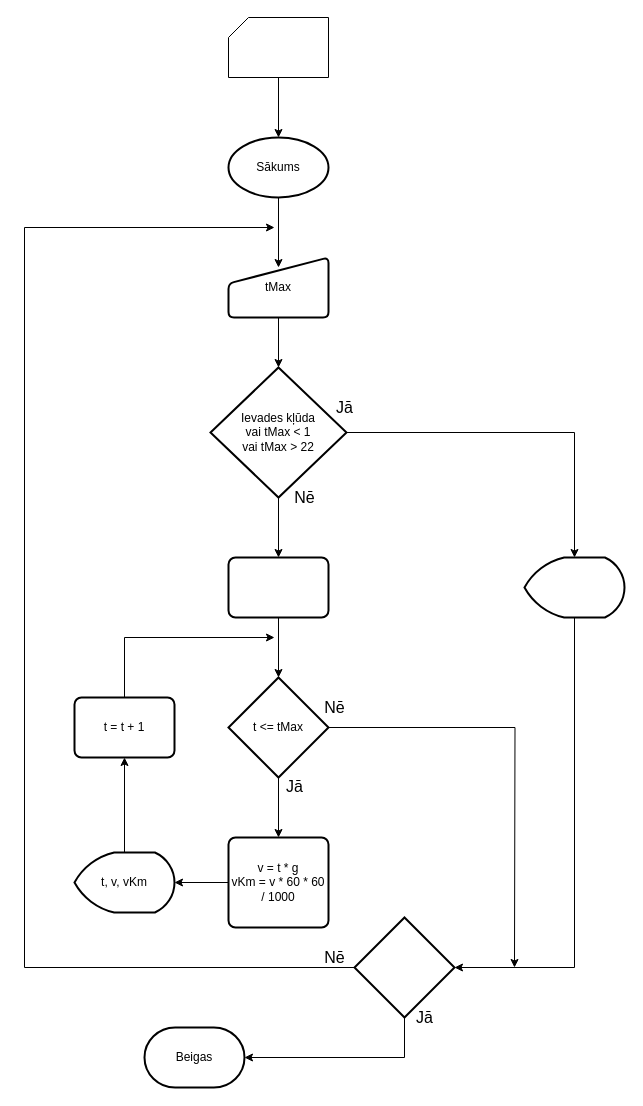
Image size: 643x1106. Some labels were removed from this diagram. Each missing label, with the box of its shape:
Beigt: (353, 916, 455, 1018)
Kļūdas paziņojums: (523, 556, 625, 618)
t = 1: (227, 556, 329, 618)
tMax, t v, vkm g=9,81843: (228, 16, 328, 78)
